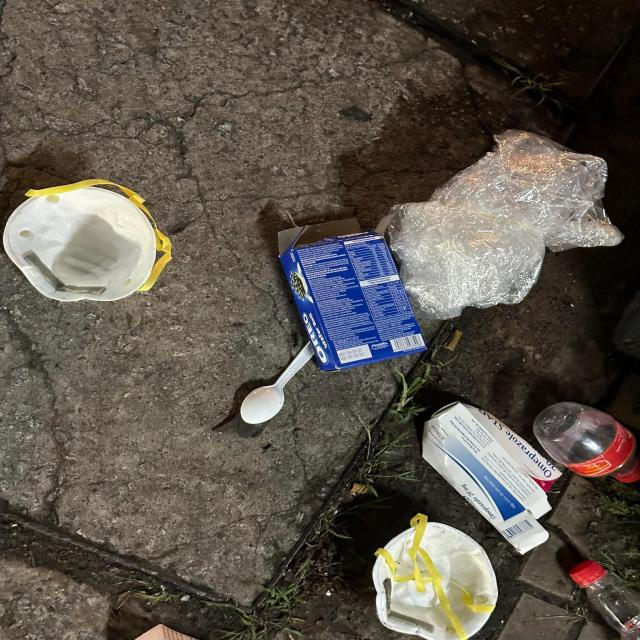bag: (376, 128, 626, 319)
bottle: (533, 398, 640, 484), (570, 558, 640, 640)
cardboard box: (279, 216, 430, 371), (423, 401, 563, 556)
mask: (3, 179, 171, 300), (372, 511, 498, 640)
plastic utensil: (241, 340, 315, 424)
